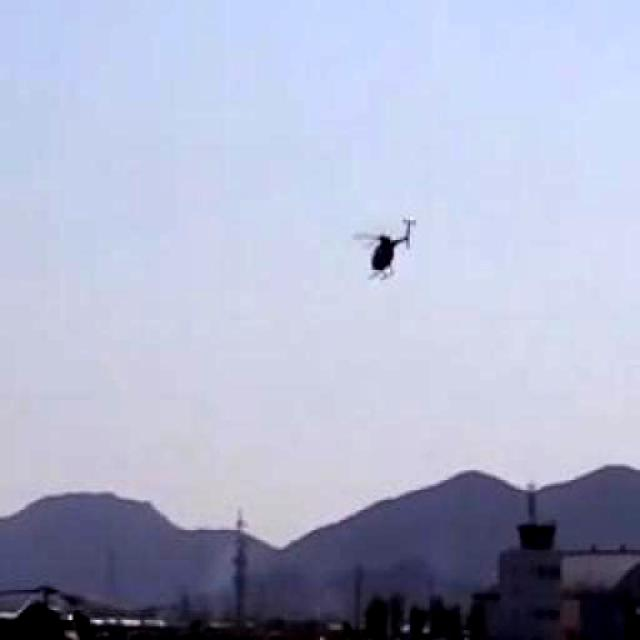drone: (325, 189, 451, 311), (0, 542, 94, 640)
